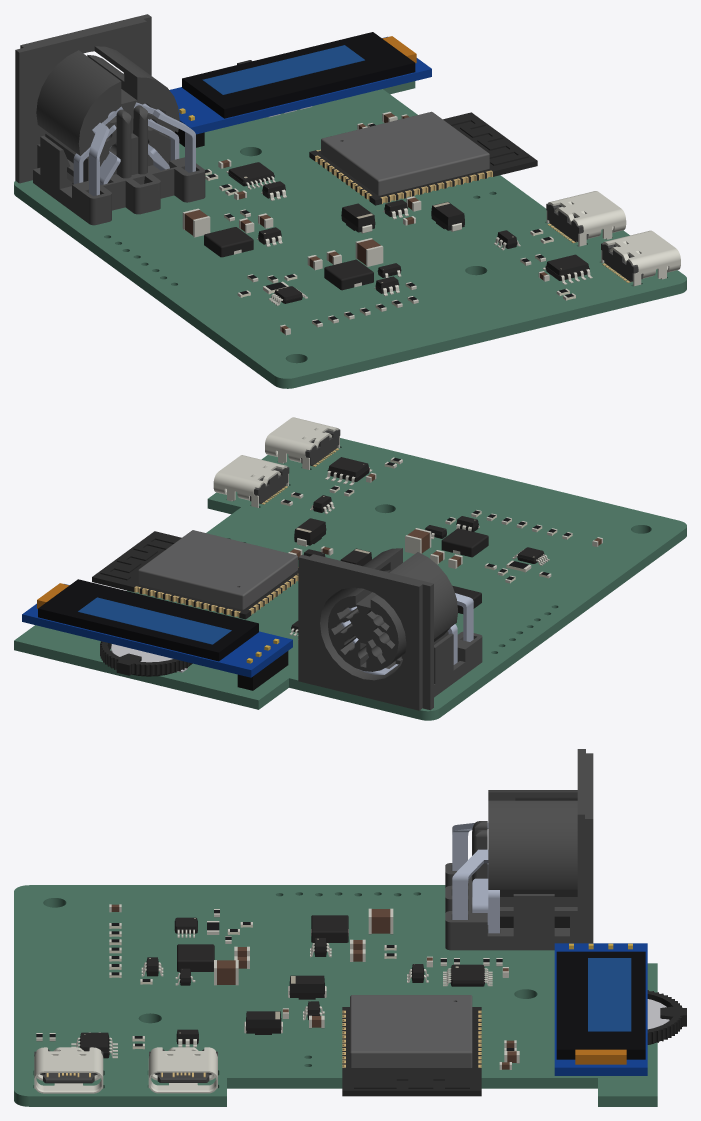
File: board.glb
3 renders of one model, top to bottom at view 1: azimuth 30°, elevation 25°; view 2: azimuth 150°, elevation 25°; view 3: azimuth 270°, elevation 25°, orthographic. The views are drawn at different scales.
Parts seen in each view (by area): view 1: =>[0:1:1:52], Panel-270-DIN7, =>[0:1:1:35], =>[0:1:1:51], Retainer, =>[0:1:1:13] (×2), =>[0:1:1:25] (×2), =>[0:1:1:7] (×2), =>[0:1:1:23] (×2), MirrorPin 1, =>[0:1:1:27], =>[0:1:1:3] (+1 smaller); view 2: =>[0:1:1:52], Panel-270-DIN7, =>[0:1:1:35], =>[0:1:1:51], =>[0:1:1:13] (×2), Retainer, lever, =>[0:1:1:25], =>[0:1:1:27], =>[0:1:1:7], =>[0:1:1:23], MirrorPin 1 (+1 smaller); view 3: =>[0:1:1:52], =>[0:1:1:51], Panel-270-DIN7, =>[0:1:1:35], =>[0:1:1:13] (×2), Retainer, =>[0:1:1:25] (×2), =>[0:1:1:7] (×2), =>[0:1:1:23] (×2), lever, Pin 1-270, =>[0:1:1:3] (+3 smaller).
Boxes of the visible parts, box(x1,y1,x2,y2) form: =>[0:1:1:52]: box(14, 81, 686, 388); Panel-270-DIN7: box(15, 14, 179, 183); =>[0:1:1:35]: box(169, 32, 431, 147); =>[0:1:1:51]: box(309, 111, 537, 205); Retainer: box(33, 105, 205, 225); =>[0:1:1:13] (×2): box(546, 191, 680, 286); =>[0:1:1:25] (×2): box(204, 227, 373, 290); =>[0:1:1:7] (×2): box(341, 202, 464, 233); =>[0:1:1:23] (×2): box(182, 208, 383, 266); MirrorPin 1: box(89, 106, 123, 196); =>[0:1:1:27]: box(542, 254, 592, 284); =>[0:1:1:3]: box(226, 162, 275, 189); =>[0:1:1:52]: box(14, 438, 686, 720); Panel-270-DIN7: box(298, 548, 457, 710); =>[0:1:1:35]: box(22, 579, 292, 690); =>[0:1:1:51]: box(92, 530, 298, 619); =>[0:1:1:13] (×2): box(213, 417, 340, 507); Retainer: box(385, 631, 482, 697); lever: box(100, 641, 189, 675); =>[0:1:1:25]: box(441, 528, 488, 557); =>[0:1:1:27]: box(325, 457, 372, 485); =>[0:1:1:7]: box(294, 518, 326, 546); =>[0:1:1:23]: box(405, 528, 431, 553); MirrorPin 1: box(455, 593, 473, 641); =>[0:1:1:52]: box(14, 885, 657, 1106); =>[0:1:1:51]: box(342, 995, 481, 1096); Panel-270-DIN7: box(488, 749, 593, 943); =>[0:1:1:35]: box(554, 943, 647, 1075); =>[0:1:1:13] (×2): box(34, 1047, 217, 1093); Retainer: box(445, 821, 569, 950); =>[0:1:1:25] (×2): box(177, 915, 348, 971); =>[0:1:1:7] (×2): box(244, 975, 326, 1034); =>[0:1:1:23] (×2): box(214, 908, 393, 985); lever: box(647, 990, 686, 1044); Pin 1-270: box(452, 849, 488, 919); =>[0:1:1:3]: box(443, 964, 492, 986).
Size of the model in its own units: 0.0647 by 0.0232 by 0.0869.
